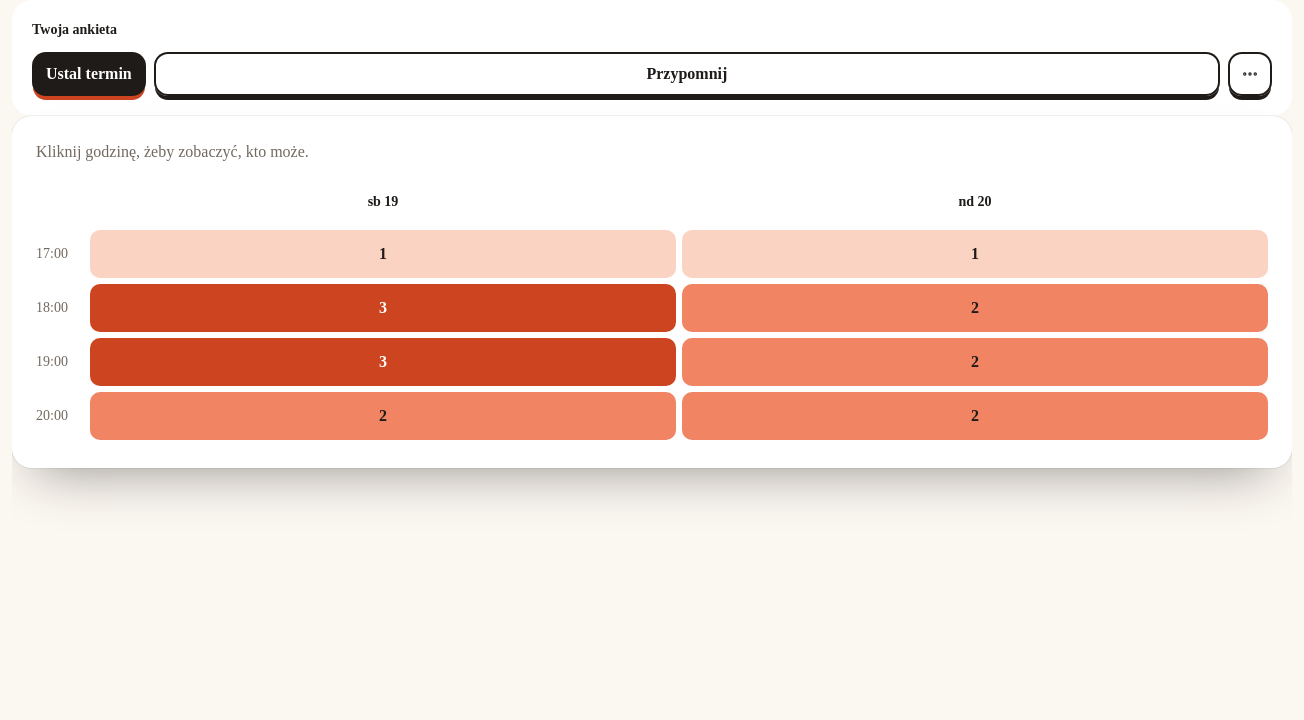
Test: the organiser › leads with the invitation once the time is set
The image size is (1304, 720).
Click the button "Ustal termin" at (89, 74), box [32,52,146,96]
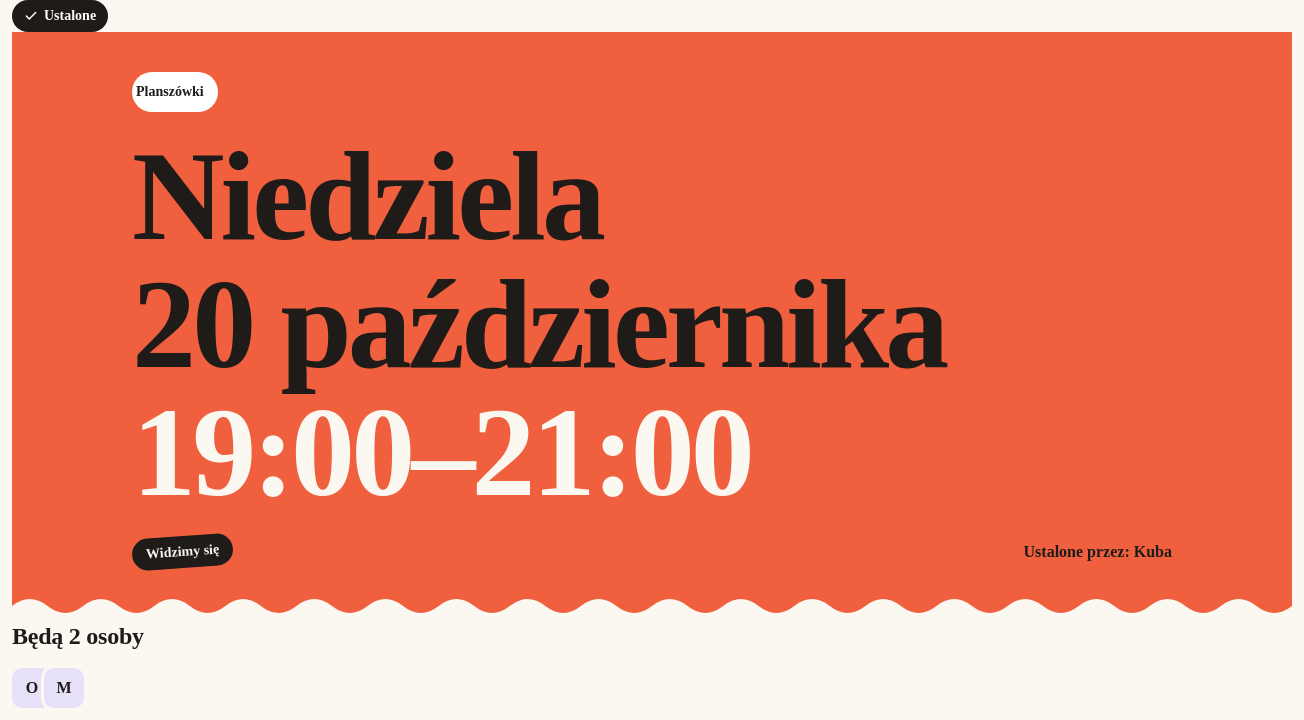
Check: the element named "Termin" shows "19:00–21:00", box [132,381,751,523]
